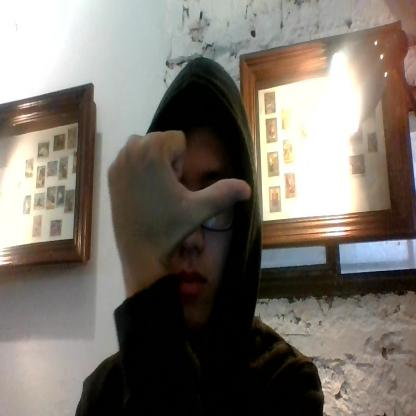left: (104, 127, 252, 248)
